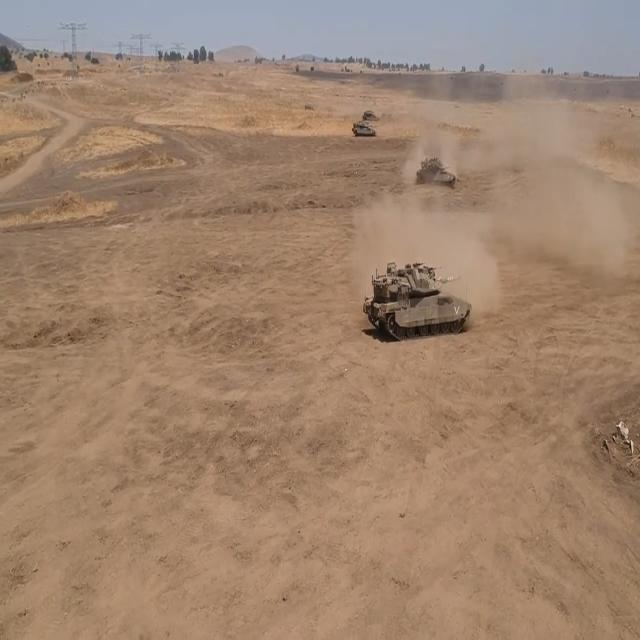tank: (357, 245, 476, 338), (418, 150, 458, 190), (351, 120, 376, 140), (360, 106, 380, 118)
